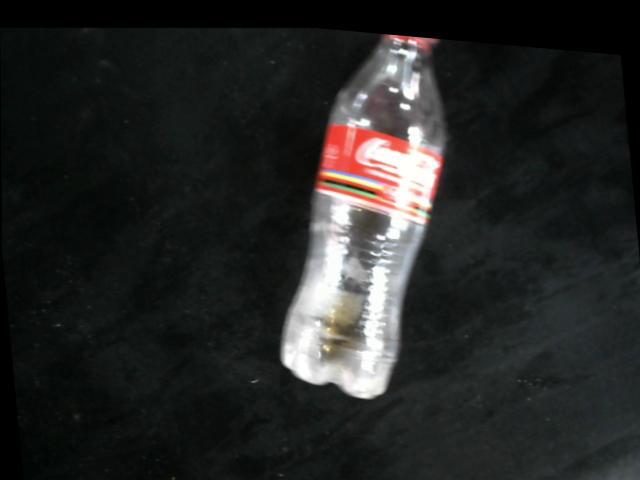bottle: (277, 27, 449, 394)
